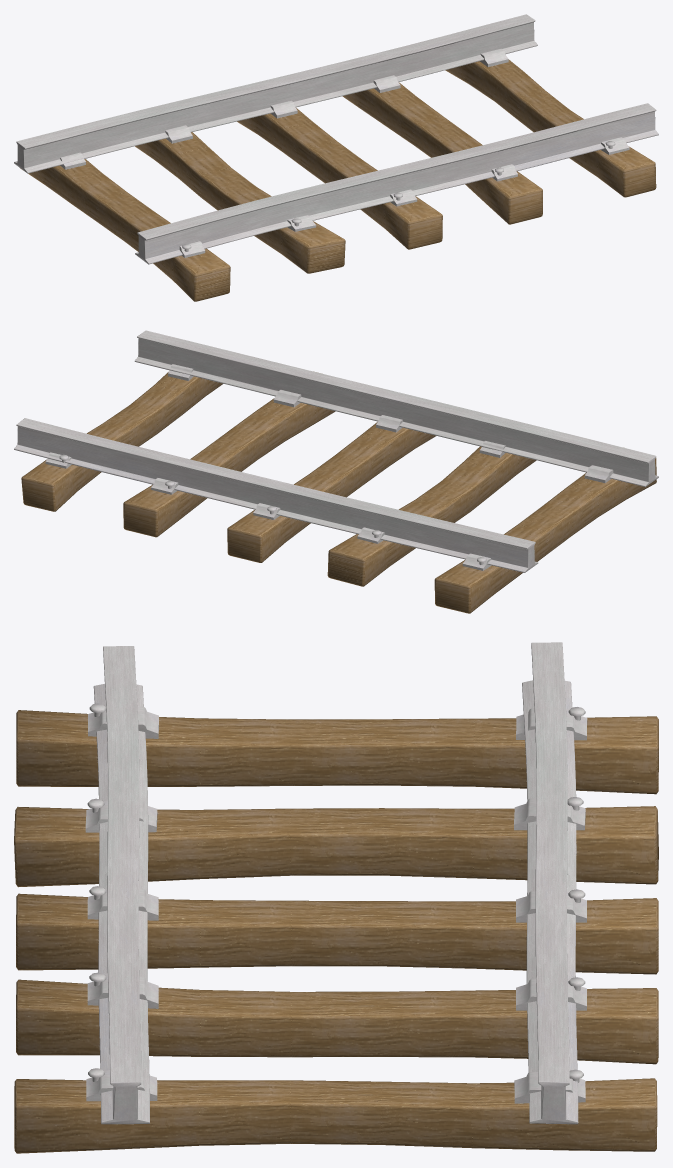
The model's file is TrainTracks_SM.FBX.
The picture shows the model from 3 angles, top to bottom: view 1: azimuth 30°, elevation 25°; view 2: azimuth 150°, elevation 25°; view 3: azimuth 270°, elevation 25°; orthographic projection. The views are drawn at different scales.
Visible parts, largest first — view 1: Loft001, Wood_SM, Wood_SM001, Wood_SM002, Wood_SM004, Wood_SM003; view 2: Loft001, Wood_SM, Wood_SM003, Wood_SM001, Wood_SM002, Wood_SM004; view 3: Loft001, Wood_SM004, Wood_SM001, Wood_SM, Wood_SM002, Wood_SM003.
Boxes of the visible parts, x1,y1,x2,y2 form: Loft001: (14, 14, 658, 264); Wood_SM: (20, 152, 230, 301); Wood_SM001: (135, 125, 345, 273); Wood_SM002: (237, 100, 442, 249); Wood_SM004: (445, 48, 656, 197); Wood_SM003: (342, 75, 542, 224); Loft001: (14, 330, 658, 572); Wood_SM: (434, 458, 656, 613); Wood_SM003: (123, 390, 335, 537); Wood_SM001: (327, 441, 536, 586); Wood_SM002: (227, 415, 435, 562); Wood_SM004: (21, 364, 223, 511); Loft001: (93, 642, 578, 1124); Wood_SM004: (14, 1068, 657, 1153); Wood_SM001: (14, 797, 658, 887); Wood_SM: (16, 703, 658, 794); Wood_SM002: (16, 886, 658, 974); Wood_SM003: (16, 972, 658, 1064).
Size of what is drawn, in the model's own units: 488 by 50.89 by 301.
Materials: 2 (2 with a texture image).
